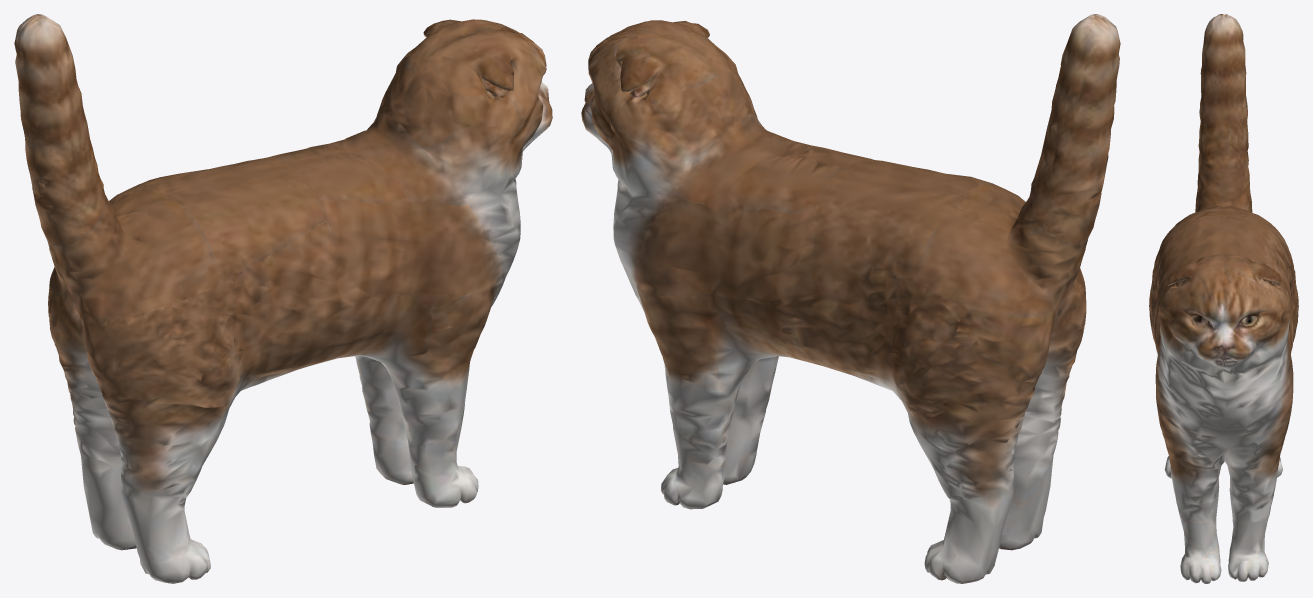
File: MARUOCAT-lo.glb
3 views of the same model, side by side, from view 1: azimuth 30°, elevation 25°; view 2: azimuth 150°, elevation 25°; view 3: azimuth 270°, elevation 25° (orthographic). The views are drawn at different scales.
Visible parts, largest first — view 1: tripo_node_0c8d1d12-3f7e-4f68-8ae3-7cf2b4ba248e; view 2: tripo_node_0c8d1d12-3f7e-4f68-8ae3-7cf2b4ba248e; view 3: tripo_node_0c8d1d12-3f7e-4f68-8ae3-7cf2b4ba248e.
Boxes of the visible parts, left/top/right/bottom form: tripo_node_0c8d1d12-3f7e-4f68-8ae3-7cf2b4ba248e: left=14, top=14, right=552, bottom=583; tripo_node_0c8d1d12-3f7e-4f68-8ae3-7cf2b4ba248e: left=581, top=14, right=1120, bottom=583; tripo_node_0c8d1d12-3f7e-4f68-8ae3-7cf2b4ba248e: left=1149, top=14, right=1298, bottom=583.
Size of the model in its own units: 0.9748 by 0.9998 by 0.3225.
1 material, 1 textured.
